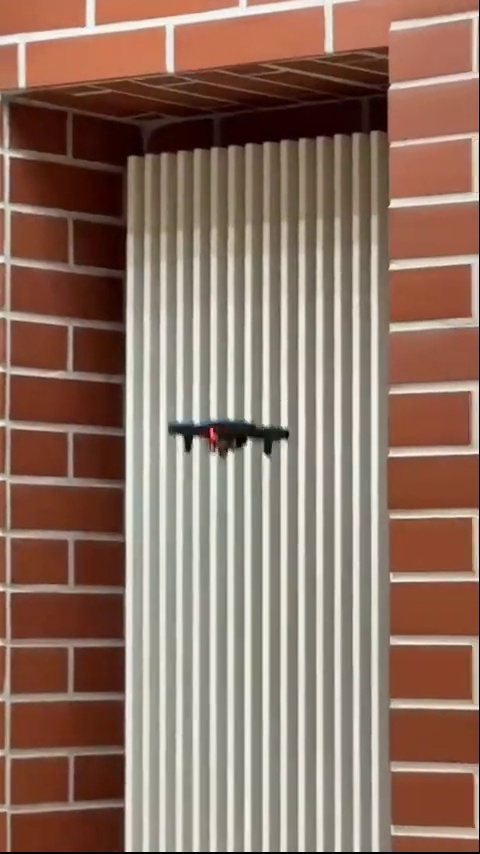drone: (167, 416, 293, 460)
